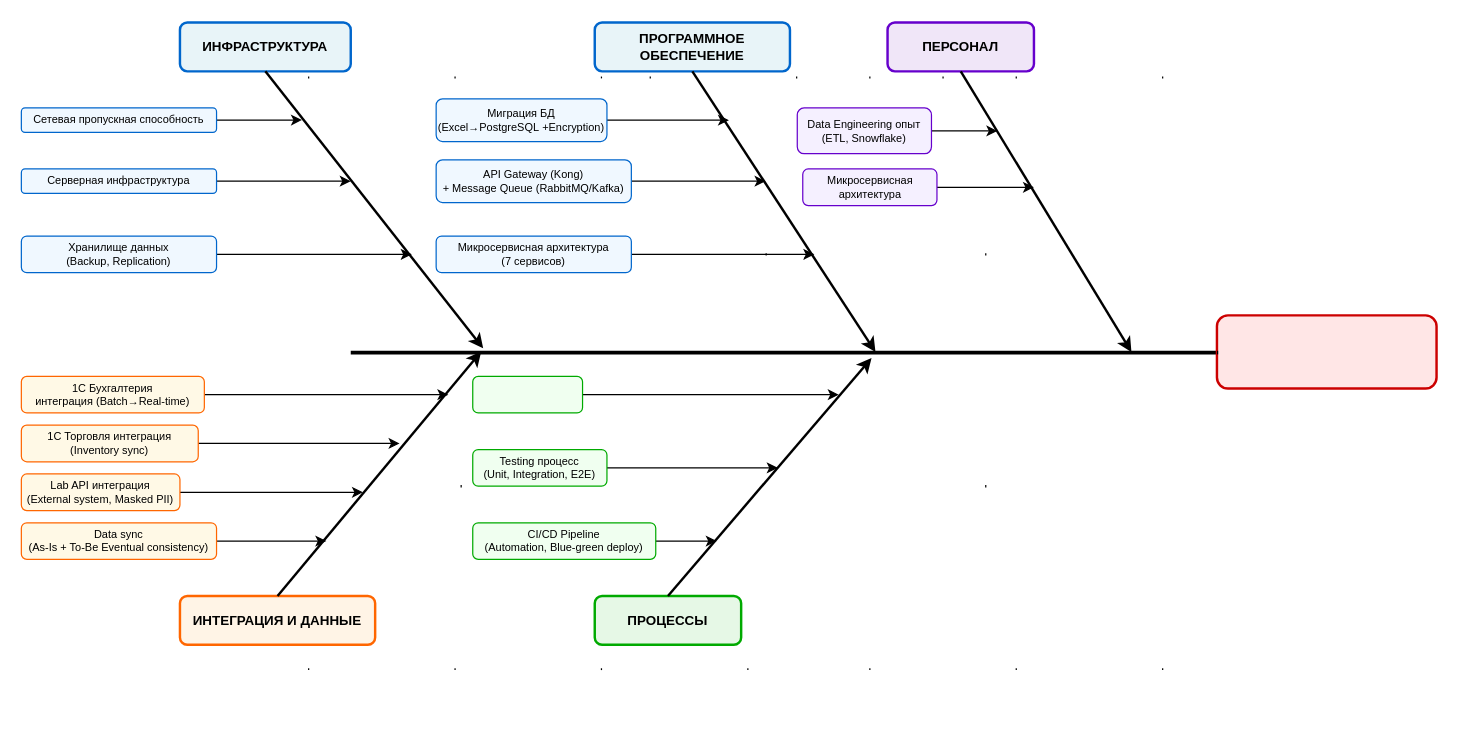
This 1459x739 diagram has some shape labels left out. Each missing label, with the centre of its shape:
"Data Migration процесс" goes at (x=527, y=394).
"УЗКИЕ МЕСТА ПРИ МИГРАЦИИ" goes at (x=1326, y=351).
